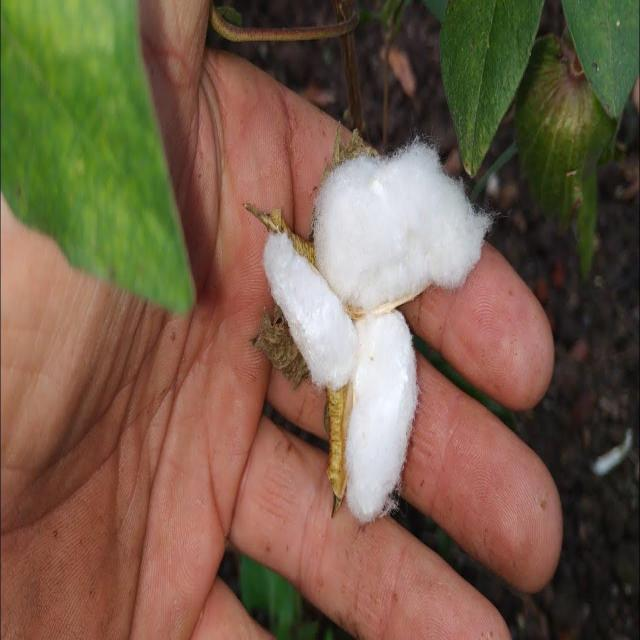Leaf: (238, 119, 511, 542)
